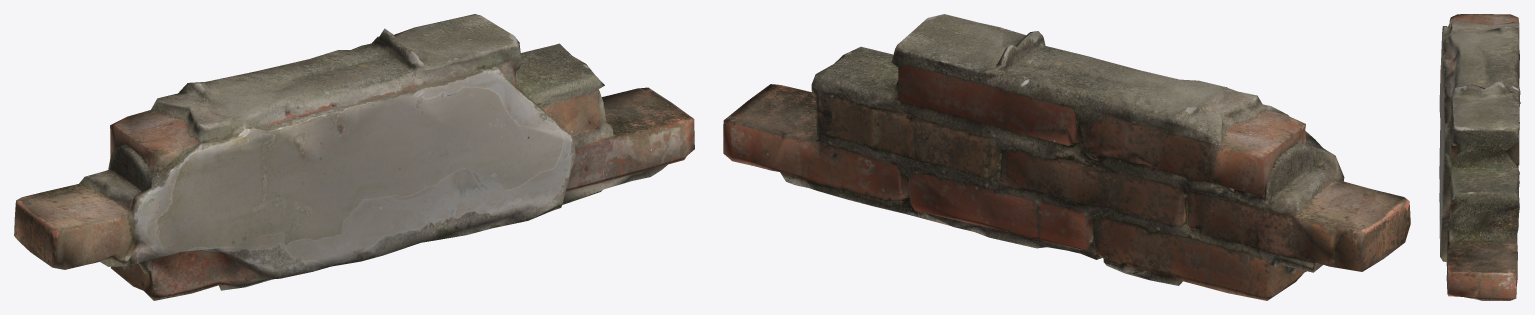
Rendered from PX_Brick_Ruins_10_LOD5.fbx.
3 renders of one model, left to right at view 1: azimuth 30°, elevation 25°; view 2: azimuth 150°, elevation 25°; view 3: azimuth 270°, elevation 25°, orthographic. The views are drawn at different scales.
Visible parts, largest first — view 1: PX_Brick_Ruins_10_LOD5; view 2: PX_Brick_Ruins_10_LOD5; view 3: PX_Brick_Ruins_10_LOD5.
Boxes of the visible parts, bbox=[...] form: PX_Brick_Ruins_10_LOD5: bbox=[14, 14, 694, 300]; PX_Brick_Ruins_10_LOD5: bbox=[723, 14, 1410, 300]; PX_Brick_Ruins_10_LOD5: bbox=[1439, 14, 1520, 300].
Size of the model in its own units: 89.63 by 26.01 by 13.66.
